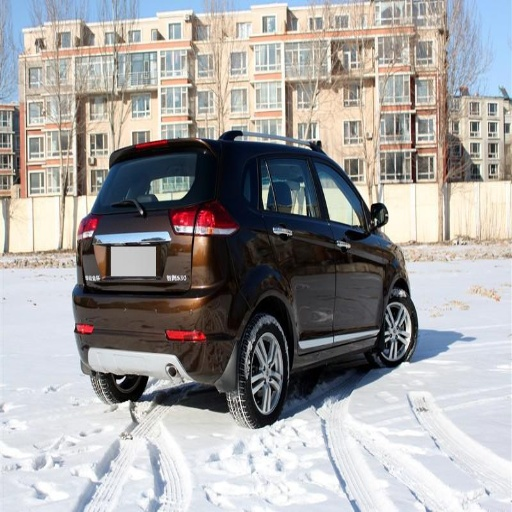back_bumper: (72, 237, 248, 384)
back_right_door: (261, 152, 337, 349)
trunk: (86, 212, 193, 307)
